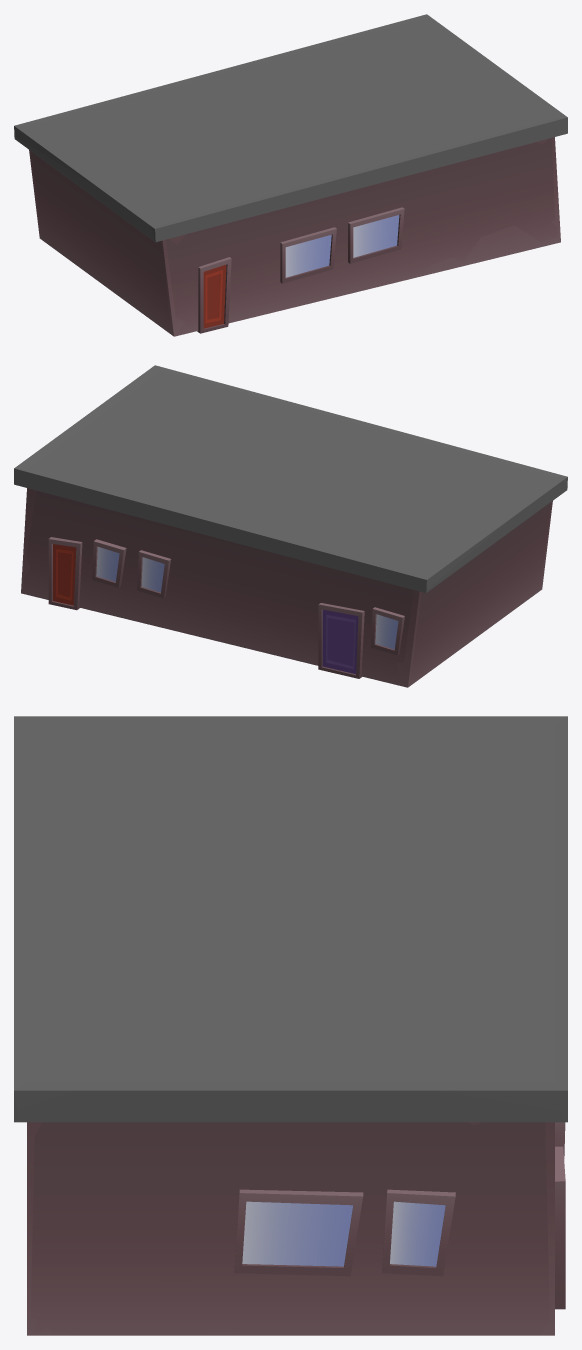
The model's file is SM_Building10.fbx.
The picture shows the model from 3 angles, top to bottom: view 1: azimuth 30°, elevation 25°; view 2: azimuth 150°, elevation 25°; view 3: azimuth 270°, elevation 25°; orthographic projection. The views are drawn at different scales.
Visible parts, largest first — view 1: Cube.110; view 2: Cube.110; view 3: Cube.110.
Boxes of the visible parts, left/top/right/bottom form: Cube.110: left=14, top=14, right=567, bottom=336; Cube.110: left=14, top=365, right=567, bottom=687; Cube.110: left=14, top=716, right=567, bottom=1335.
Size of the model in its own units: 37.76 by 11.17 by 22.34.
